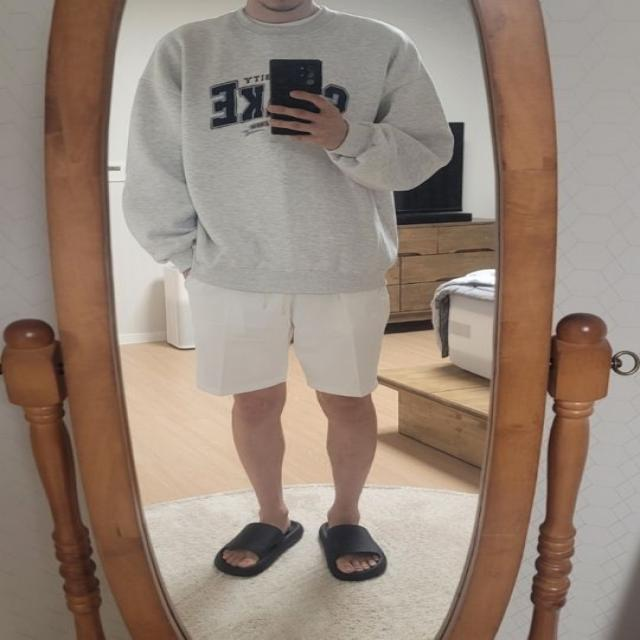mtm: (125, 2, 454, 299)
shortpants: (179, 267, 387, 394)
